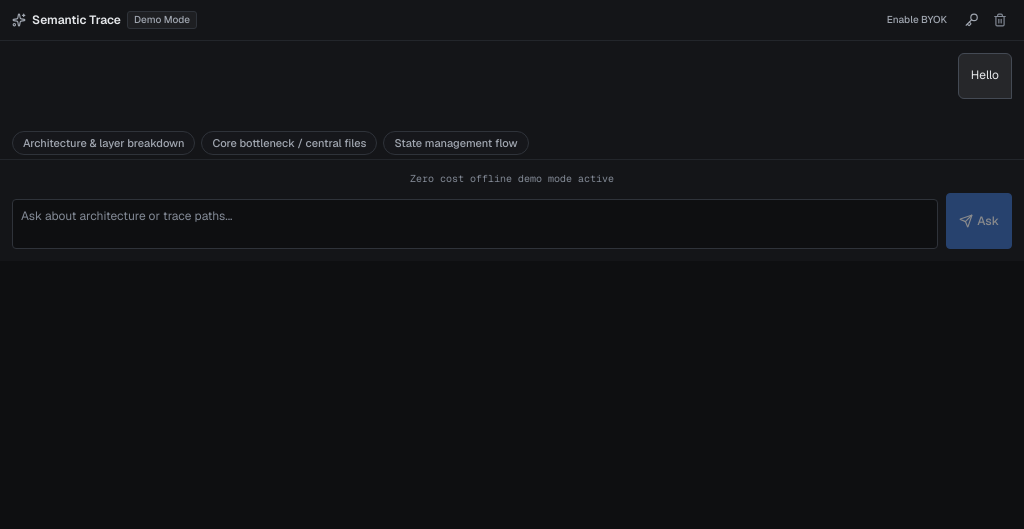
TracePanel › clears chat history and active trace when clear chat button is clicked
Expected: the text "Hello" is shown, x1=971 y1=66 x2=999 y2=86
Click the button titled "Clear thread history": (1000, 20) x1=988 y1=8 x2=1012 y2=32
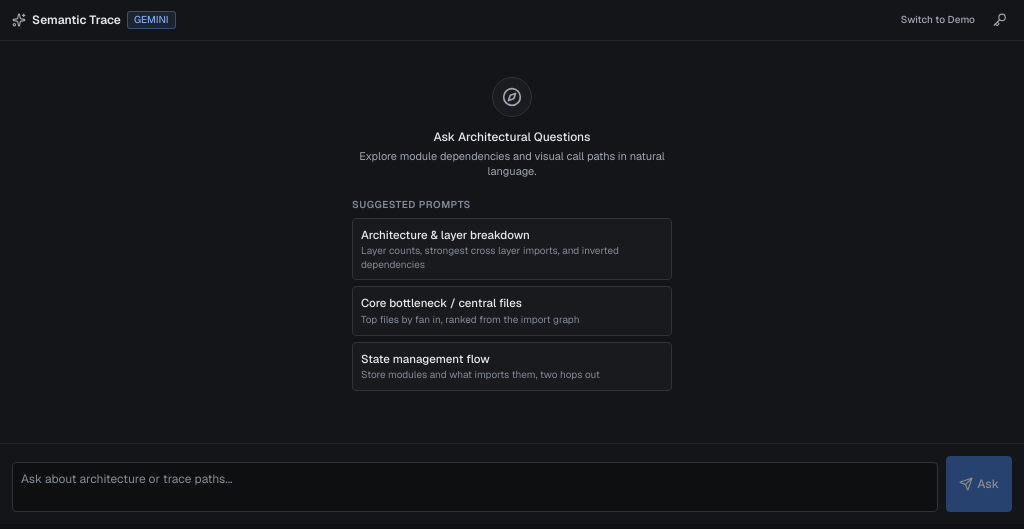
Expected: the text "Hello" is gone
Expected: the text "Ask Architectural Questions" is shown, x1=434 y1=129 x2=590 y2=145
